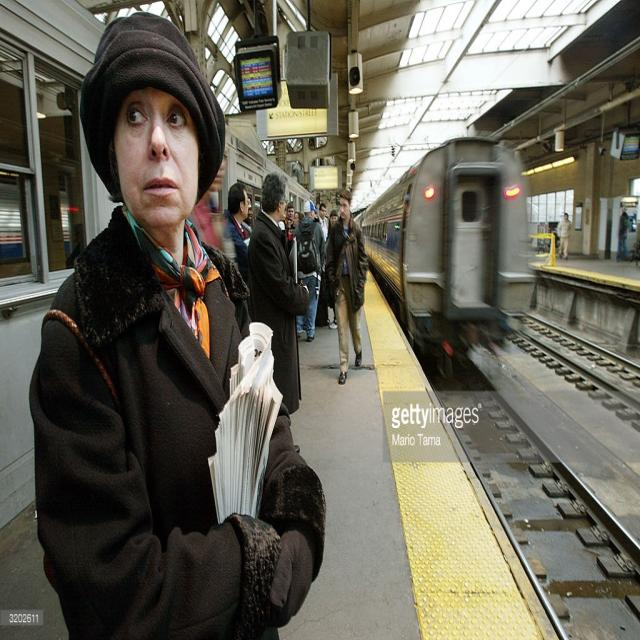body: (26, 9, 330, 640), (213, 187, 353, 349), (245, 169, 312, 420), (323, 186, 370, 386), (292, 199, 327, 343), (220, 180, 252, 285), (616, 205, 632, 263), (555, 211, 571, 260), (326, 207, 340, 249)
